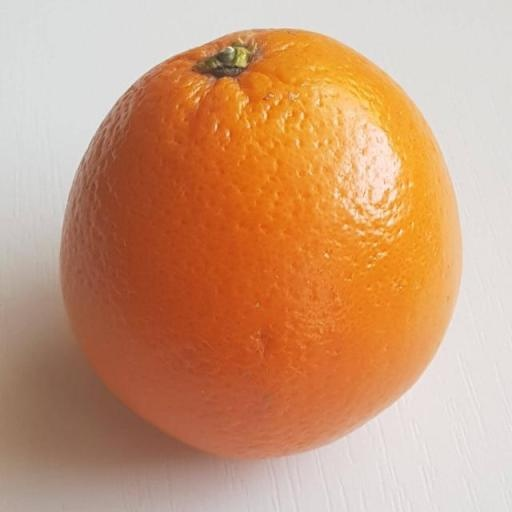fruit: (62, 30, 460, 457)
